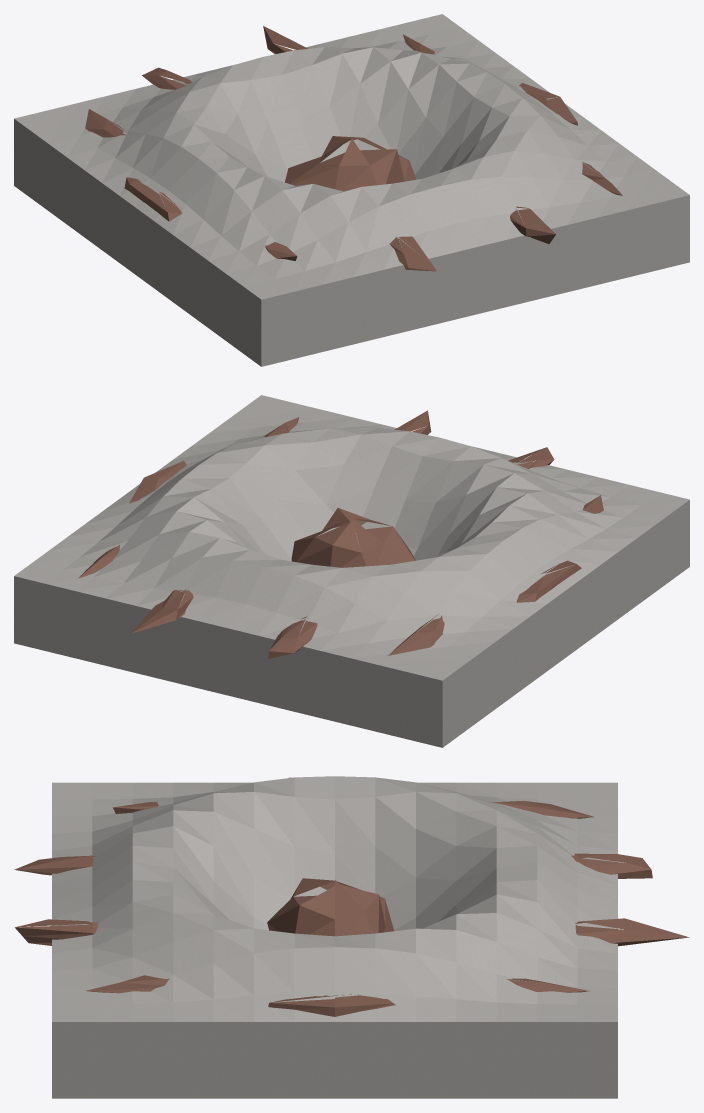
Rendered from volcano-and-lava-fields-volcano-and-lava-fields-lava-b-c9e30f7a__37473.glb.
The picture shows the model from 3 angles, top to bottom: view 1: azimuth 30°, elevation 25°; view 2: azimuth 150°, elevation 25°; view 3: azimuth 270°, elevation 25°; orthographic projection. The views are drawn at different scales.
Visible parts, largest first — view 1: volcano-and-lava-fields-lava-bomb-impact-crater; view 2: volcano-and-lava-fields-lava-bomb-impact-crater; view 3: volcano-and-lava-fields-lava-bomb-impact-crater.
Part boxes in pixels (<box>): volcano-and-lava-fields-lava-bomb-impact-crater: <box>14,14,689,366</box>; volcano-and-lava-fields-lava-bomb-impact-crater: <box>14,395,689,747</box>; volcano-and-lava-fields-lava-bomb-impact-crater: <box>14,776,689,1098</box>.
Size of the model in its own units: 3 by 0.8298 by 3.58.
2 materials, 2 textured.
